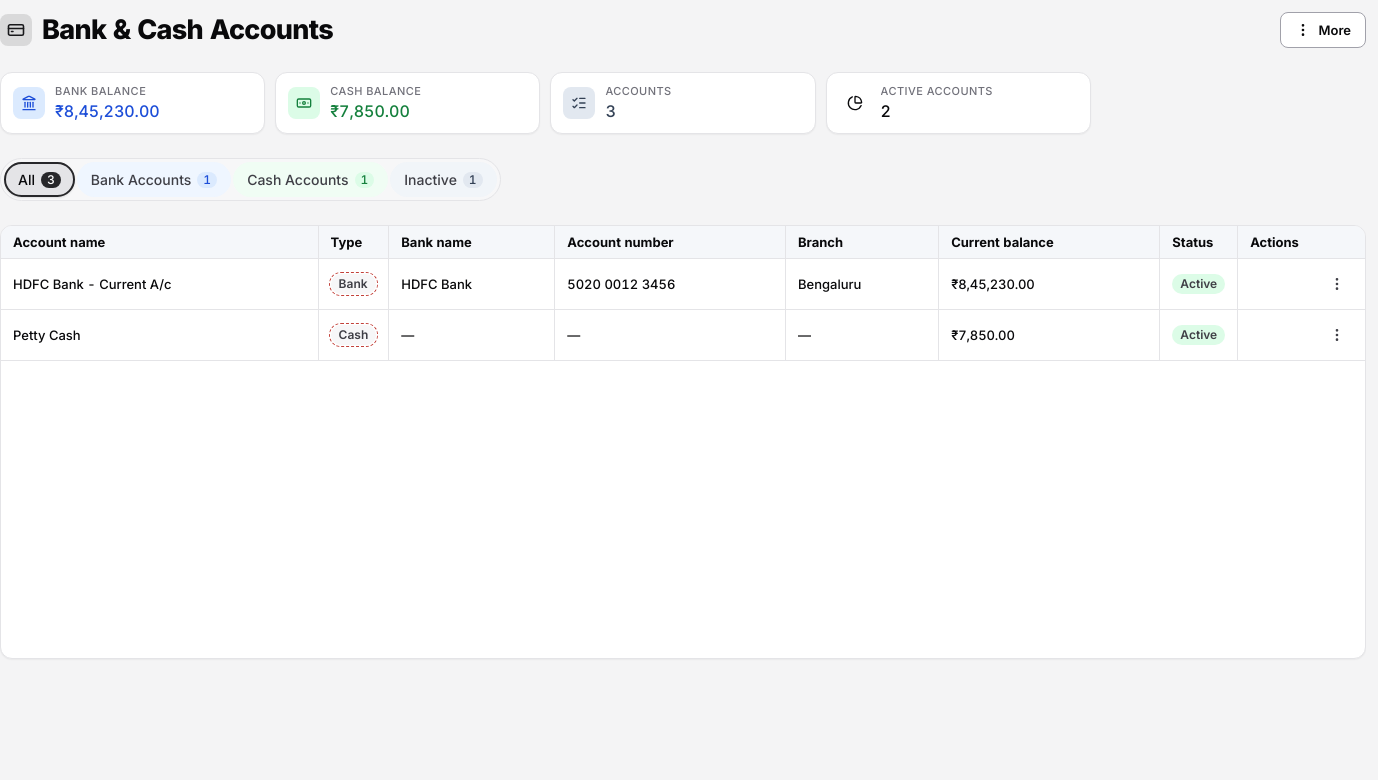
Scenario: the screen › keeps a closed account out of the live list and under Inactive
Expected: the text "Old Union Bank" is not shown
Click the tab "Inactive 1": (443, 180) [390,162,497,197]
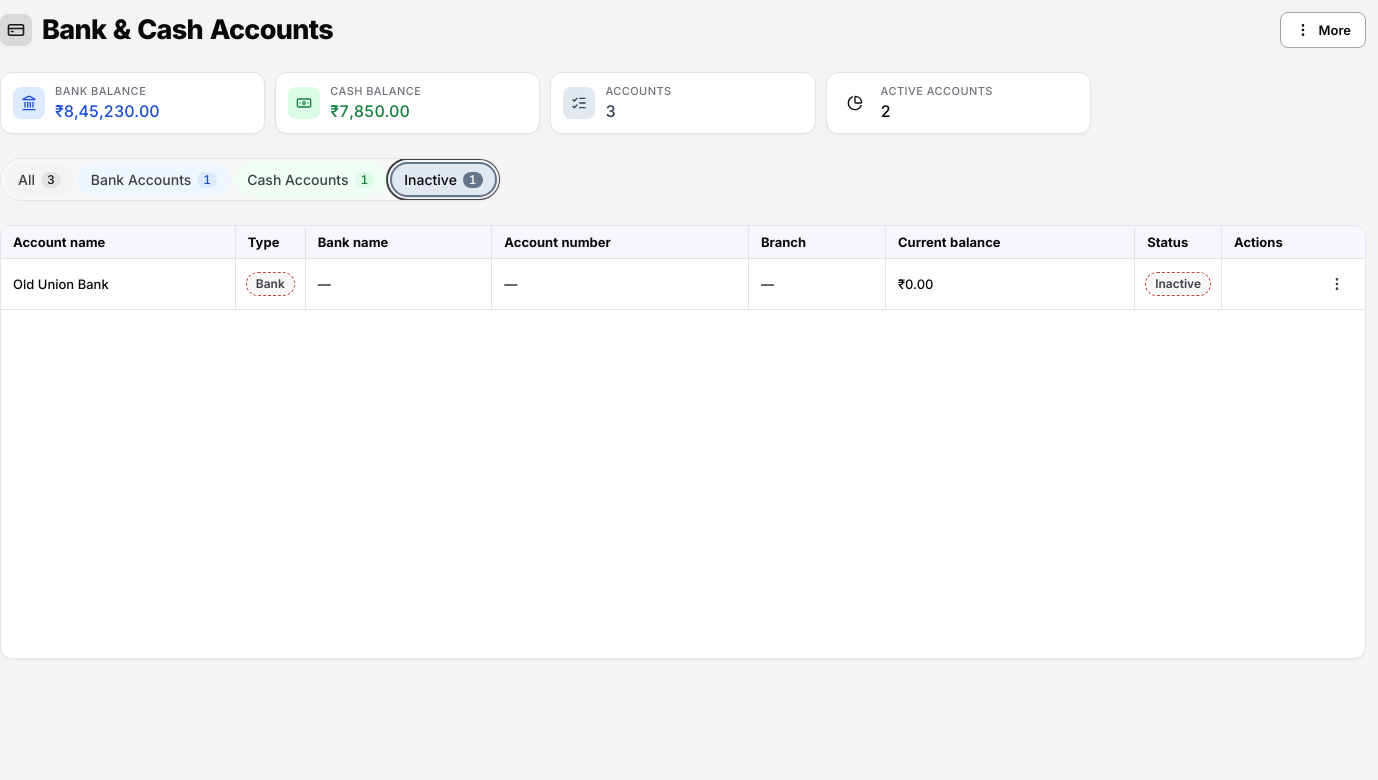
Expected: the text "Old Union Bank" is shown, [1,259,235,310]
Expected: the text "Petty Cash" is gone
